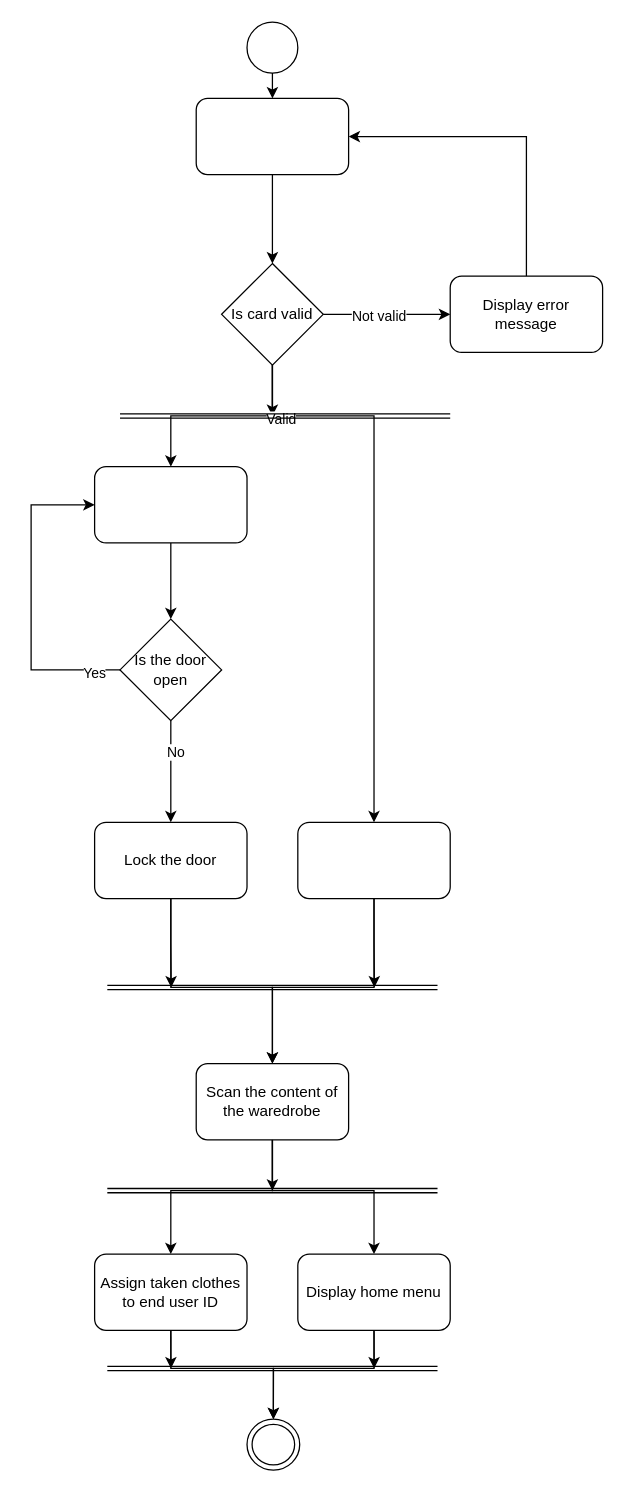
This 625x1492 diagram has some shape labels left out. The shapes that lost their labels are listed below. From the top down, each one's box as (x1, y1, x2, y2) in pixels, then its label:
(195, 97, 349, 175): Scanning access card
(93, 465, 247, 543): Unlock the door
(297, 821, 450, 899): Display end user UI
